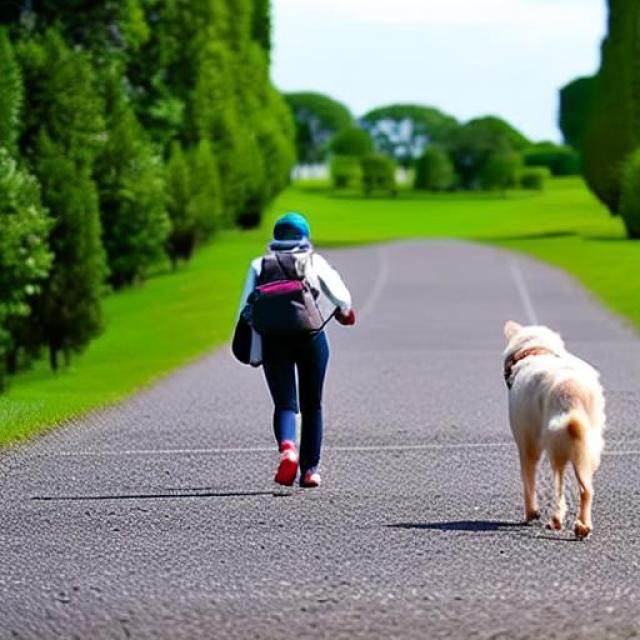Unleashed_Dog: (256, 311, 606, 541)
